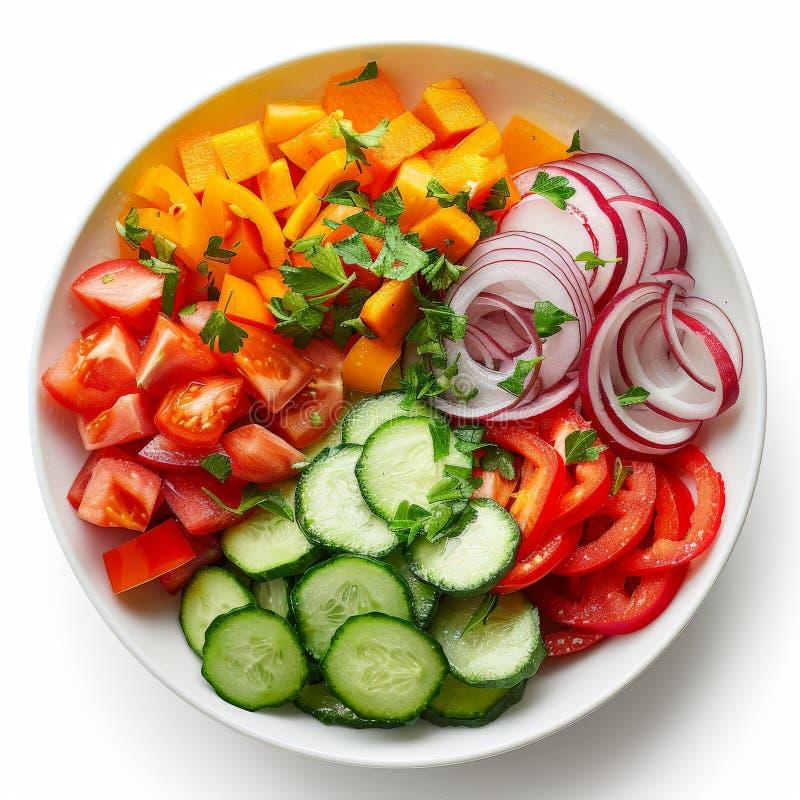carrot: (173, 93, 475, 273)
cucumber: (266, 449, 551, 702)
onion: (476, 140, 745, 425)
tomato: (29, 283, 327, 521)
